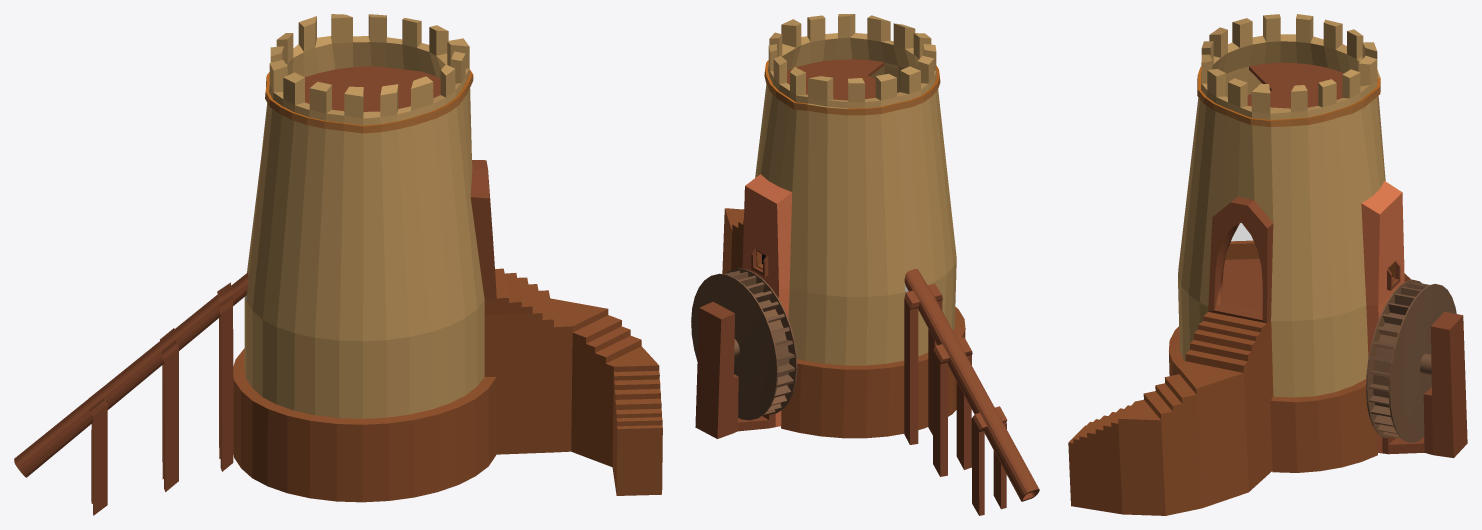
File: Arab_tower.fbx
3 views of the same model, side by side, from view 1: azimuth 30°, elevation 25°; view 2: azimuth 150°, elevation 25°; view 3: azimuth 270°, elevation 25° (orthographic). The views are drawn at different scales.
Parts seen in each view (by area): view 1: toren; view 2: toren, Cylinder.002; view 3: toren, Cylinder.002.
Part boxes in pixels (box(x1,y1,x2,y2)): toren: box(14, 14, 662, 515); toren: box(695, 14, 1039, 515); Cylinder.002: box(691, 268, 797, 420); toren: box(1068, 14, 1467, 515); Cylinder.002: box(1366, 279, 1456, 442).
Bounding box in the file's own units: 1669 × 1435 × 1261.
2 materials, 2 textured.
